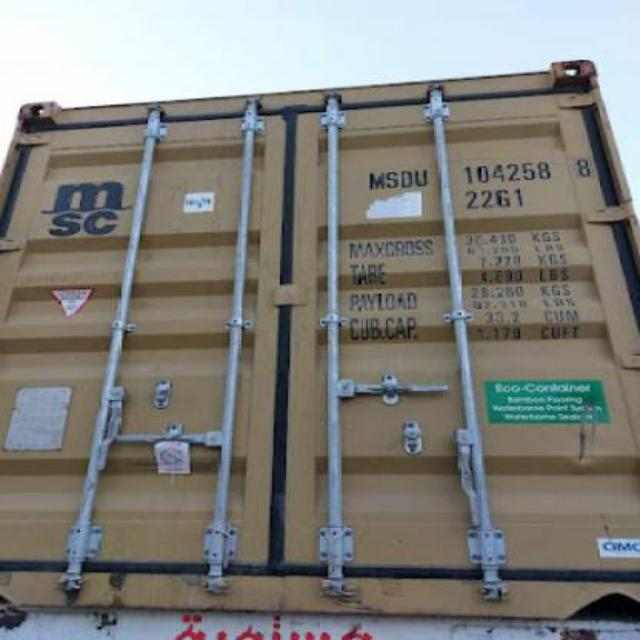0: (476, 166, 492, 182)
1: (464, 166, 474, 184)
2: (506, 164, 522, 180)
4: (490, 166, 506, 182)
5: (522, 163, 536, 181)
8: (536, 163, 552, 179), (578, 158, 590, 178)
D: (398, 170, 414, 188)
M: (368, 176, 386, 192)
S: (384, 172, 400, 188)
U: (414, 169, 428, 187)
